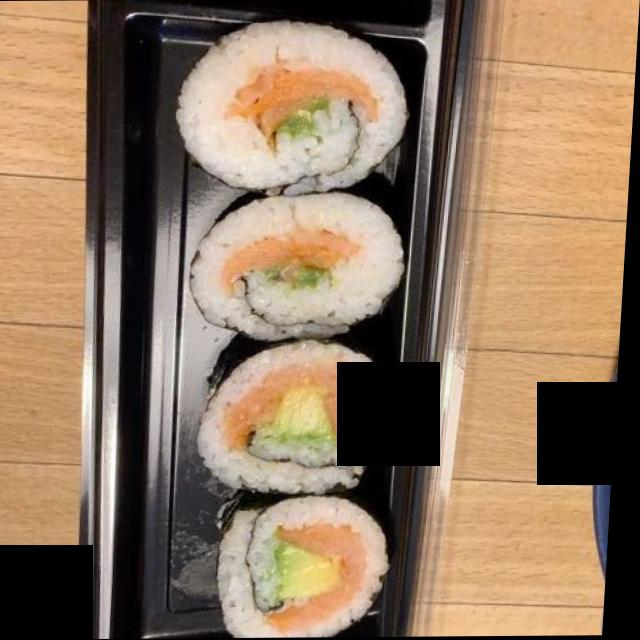sushi: (181, 26, 413, 630)
